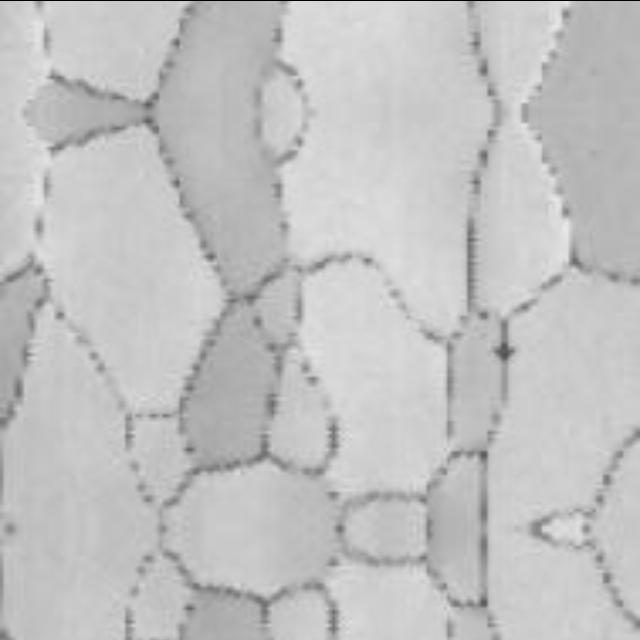good_void: (492, 345, 514, 361)
